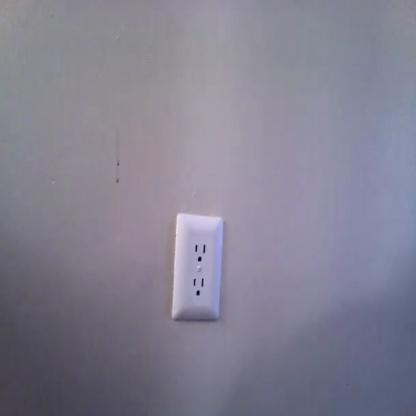OUTLET: (171, 213, 224, 321)
